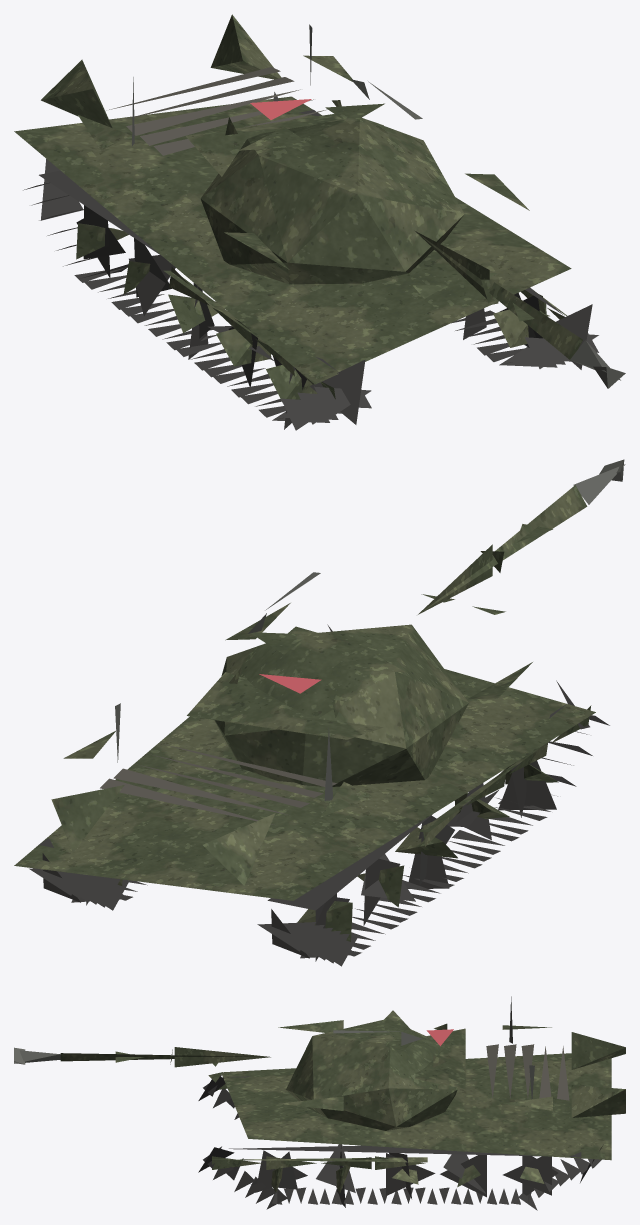
File: mbt_e2_kp_chonma_LOD2.glb
3 renders of one model, top to bottom at view 1: azimuth 30°, elevation 25°; view 2: azimuth 150°, elevation 25°; view 3: azimuth 270°, elevation 25°, orthographic. The views are drawn at different scales.
Visible parts, largest first — view 1: mbt_e2_kp_chonma_LOD2_body, mbt_e2_kp_chonma_LOD2_track, mbt_e2_kp_chonma_LOD2_deck, mbt_e2_kp_chonma_LOD2_gun, mbt_e2_kp_chonma_LOD2_team; view 2: mbt_e2_kp_chonma_LOD2_body, mbt_e2_kp_chonma_LOD2_track, mbt_e2_kp_chonma_LOD2_deck, mbt_e2_kp_chonma_LOD2_gun; view 3: mbt_e2_kp_chonma_LOD2_body, mbt_e2_kp_chonma_LOD2_track, mbt_e2_kp_chonma_LOD2_deck, mbt_e2_kp_chonma_LOD2_gun.
Boxes of the visible parts, x1=… form: mbt_e2_kp_chonma_LOD2_body: x1=14, y1=14, x2=582, y2=400; mbt_e2_kp_chonma_LOD2_track: x1=23, y1=92, x2=598, y2=430; mbt_e2_kp_chonma_LOD2_deck: x1=106, y1=67, x2=327, y2=155; mbt_e2_kp_chonma_LOD2_gun: x1=132, y1=24, x2=625, y2=388; mbt_e2_kp_chonma_LOD2_team: x1=250, y1=99, x2=311, y2=119; mbt_e2_kp_chonma_LOD2_body: x1=14, y1=485, x2=595, y2=941; mbt_e2_kp_chonma_LOD2_track: x1=29, y1=624, x2=609, y2=966; mbt_e2_kp_chonma_LOD2_deck: x1=100, y1=744, x2=337, y2=825; mbt_e2_kp_chonma_LOD2_gun: x1=115, y1=459, x2=625, y2=800; mbt_e2_kp_chonma_LOD2_body: x1=60, y1=1010, x2=625, y2=1193; mbt_e2_kp_chonma_LOD2_track: x1=198, y1=1074, x2=602, y2=1210; mbt_e2_kp_chonma_LOD2_deck: x1=486, y1=1044, x2=569, y2=1100; mbt_e2_kp_chonma_LOD2_gun: x1=14, y1=996, x2=534, y2=1099.
Size of the model in its own units: 3.3 by 2.66 by 9.71.
6 materials, 1 textured.
